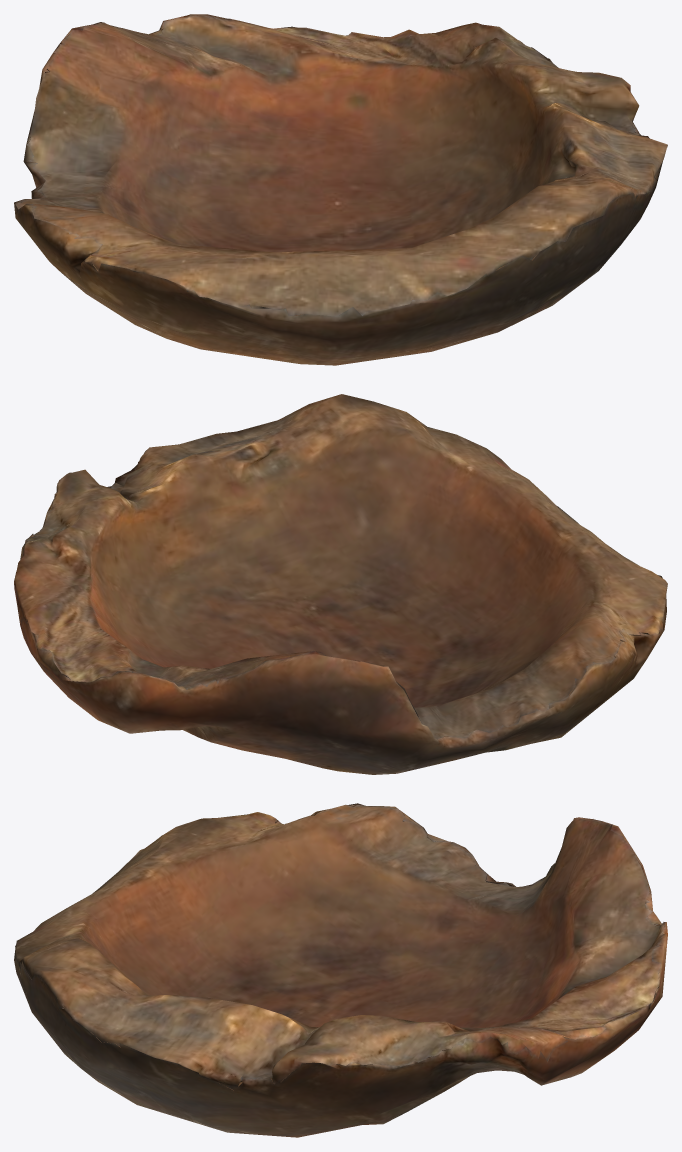
The model's file is wooden_bowl_01.gltf.
The picture shows the model from 3 angles, top to bottom: view 1: azimuth 30°, elevation 25°; view 2: azimuth 150°, elevation 25°; view 3: azimuth 270°, elevation 25°; orthographic projection. The views are drawn at different scales.
Parts seen in each view (by area): view 1: wooden_bowl_01; view 2: wooden_bowl_01; view 3: wooden_bowl_01.
Boxes of the visible parts, bbox=[...] form: wooden_bowl_01: bbox=[14, 14, 667, 365]; wooden_bowl_01: bbox=[14, 394, 667, 774]; wooden_bowl_01: bbox=[14, 803, 667, 1137].
Size of the model in its own units: 0.3132 by 0.0938 by 0.3097.
Materials: 1 (1 with a texture image).
